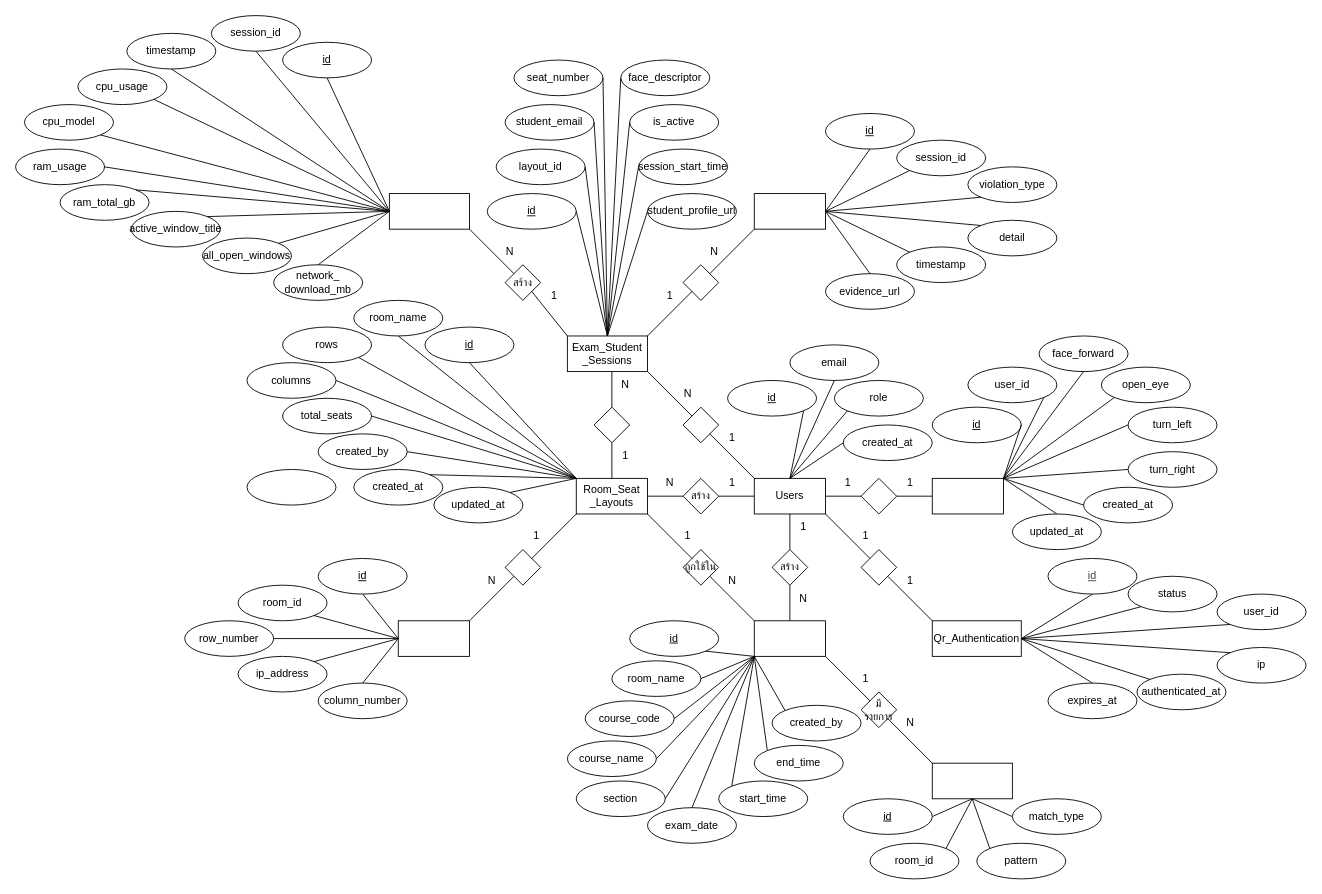
This 1322x894 diagram has some shape labels left out. The shapes that lost their labels are listed below. From the top down, each one's centre as x and y in pixels, then its label:
At [428,211]: "Resource_Logs".
At [789,211]: "Violation_Logs".
At [700,282]: "ตรวจพบ".
At [611,424]: "รองรับ".
At [700,424]: "เข้าสอบใน".
At [291,487]: "exe_processes".
At [878,495]: "มีข้อมูล".
At [967,495]: "User_Photos".
At [522,567]: "ประกอบด้วย".
At [878,567]: "ทำรายการ".
At [433,638]: "Room_Seat _Ip_Mappings".
At [789,638]: "Exam_Rooms".
At [971,780]: "Room_Blocked _Resources".
